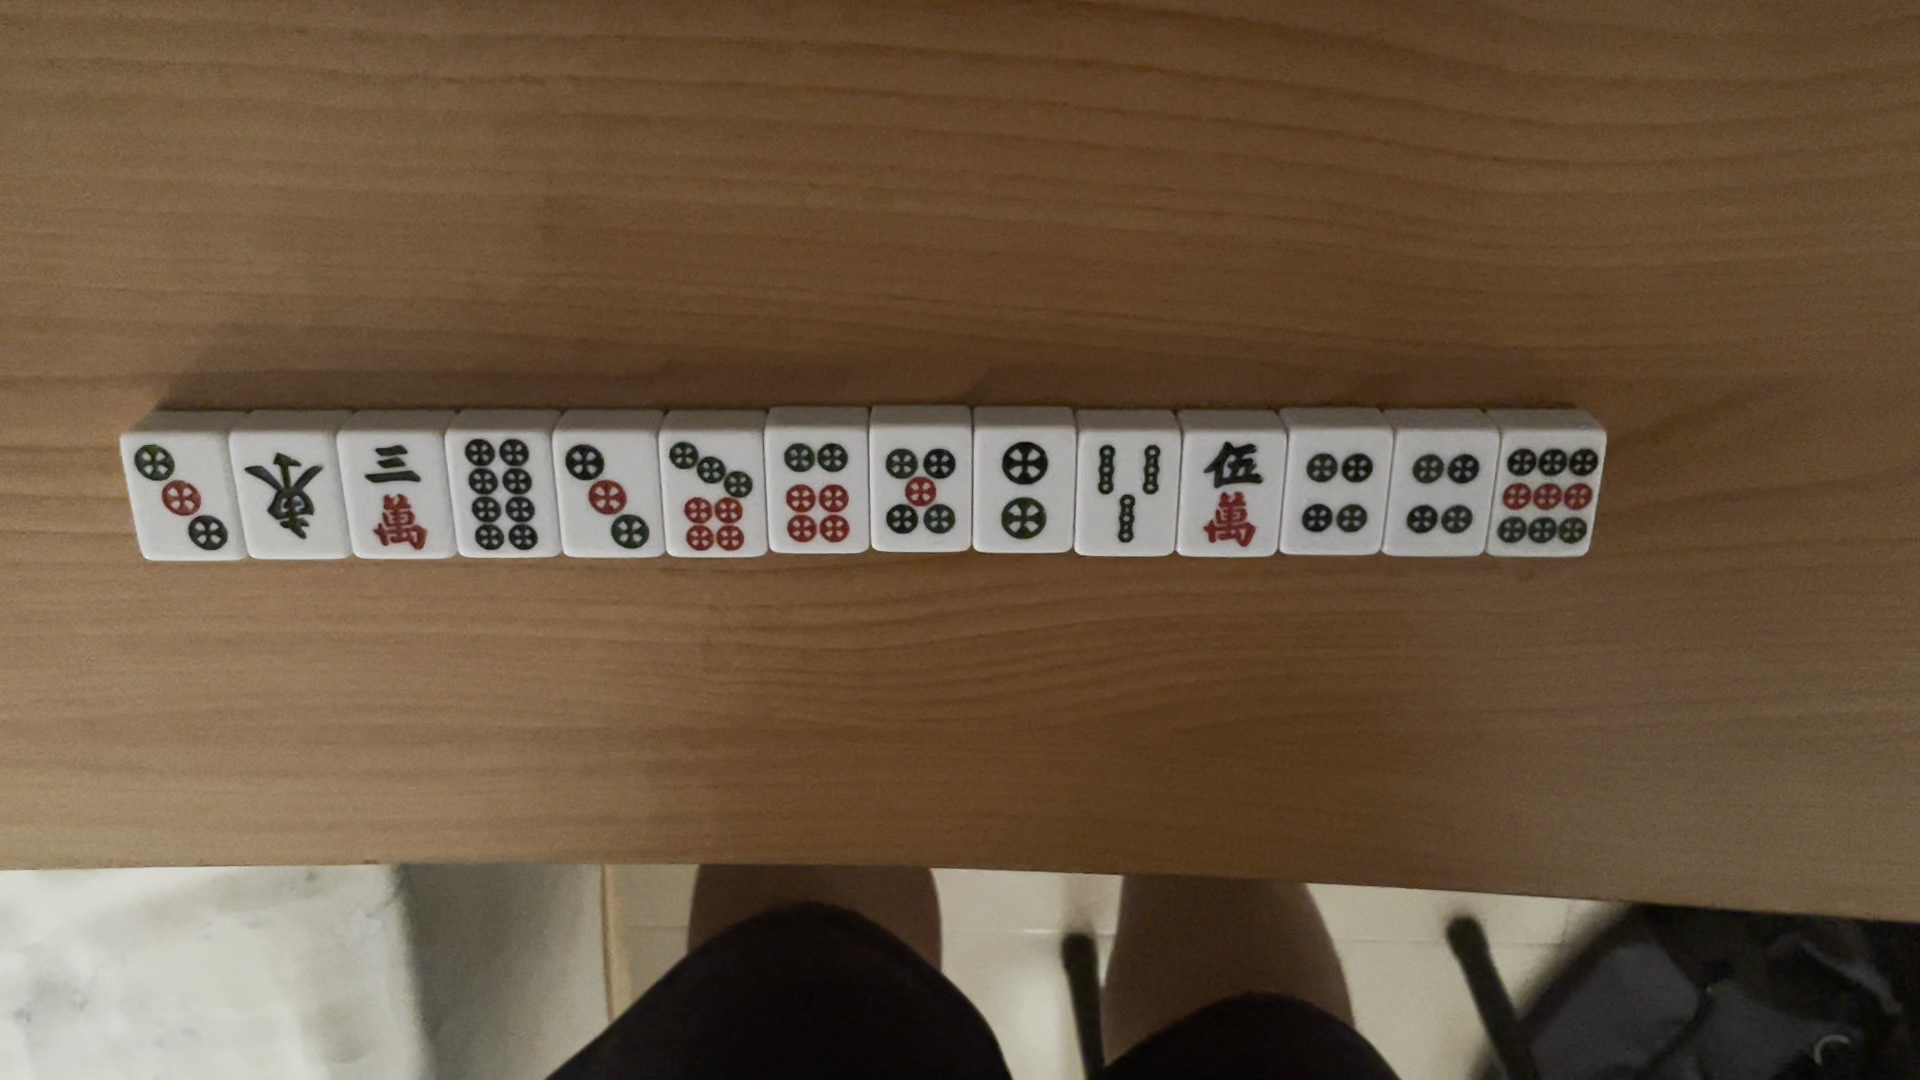b-3: (1093, 433, 1162, 556)
c-3: (353, 440, 433, 554)
c-5: (1197, 436, 1265, 549)
d-2: (986, 435, 1055, 547)
d-3: (125, 438, 228, 556), (560, 435, 654, 551), (462, 434, 542, 556)
d-4: (1400, 444, 1484, 543), (1294, 448, 1375, 543)
d-5: (878, 436, 971, 541)
d-6: (778, 435, 855, 550)
d-7: (665, 435, 752, 556)
d-9: (1495, 443, 1600, 549)
honors-east: (241, 443, 332, 547)
